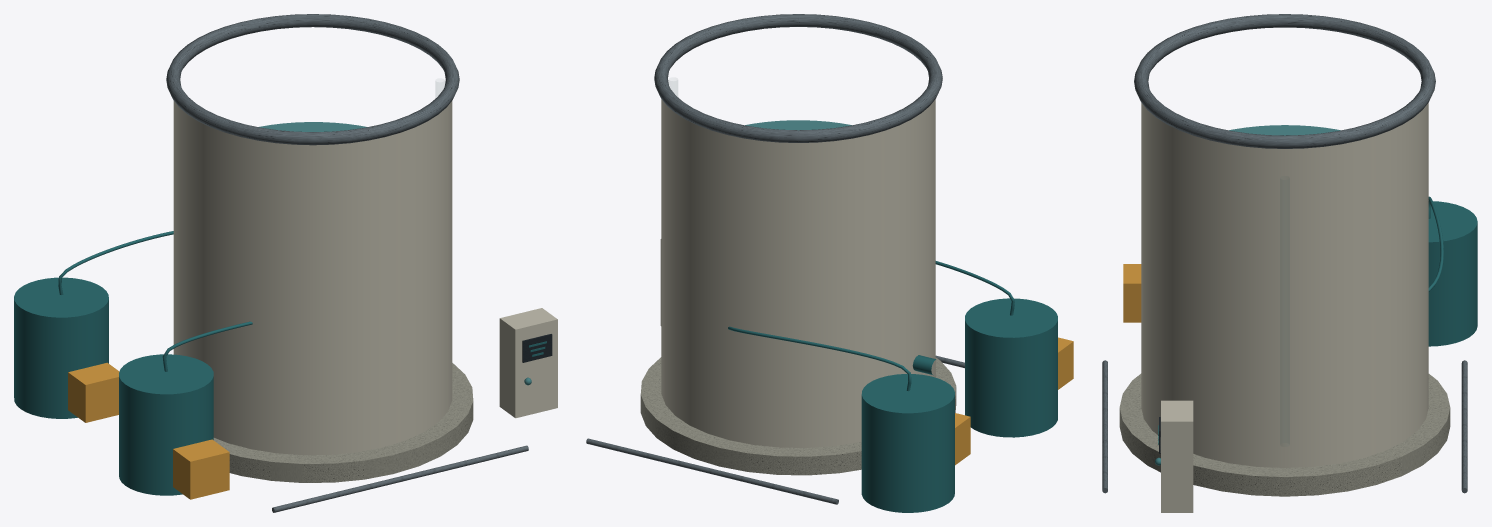
File: cooling-makeup.df5fe7648504.glb
3 views of the same model, side by side, from view 1: azimuth 30°, elevation 25°; view 2: azimuth 150°, elevation 25°; view 3: azimuth 270°, elevation 25° (orthographic). The views are drawn at different scales.
Visible parts, largest first — view 1: structure_cream_00044, structure_teal_00047, structure_steel_00045, structure_concrete_00043, structure_yellow_00048, tank_level_00004, structure_dark_00050; view 2: structure_cream_00044, structure_teal_00047, structure_steel_00045, structure_concrete_00043, structure_yellow_00048, tank_level_00004; view 3: structure_cream_00044, structure_steel_00045, structure_concrete_00043, structure_teal_00047, structure_section_window_00046, structure_yellow_00048, tank_level_00004.
Boxes of the visible parts, x1,y1,x2,y2 form: structure_cream_00044: (173, 101, 557, 455); structure_teal_00047: (14, 231, 546, 495); structure_steel_00045: (166, 14, 528, 512); structure_concrete_00043: (213, 363, 473, 482); structure_yellow_00048: (68, 362, 229, 499); tank_level_00004: (258, 122, 367, 131); structure_dark_00050: (522, 334, 552, 362); structure_cream_00044: (660, 99, 935, 447); structure_teal_00047: (728, 261, 1057, 512); structure_steel_00045: (586, 14, 964, 504); structure_concrete_00043: (640, 357, 956, 475); structure_yellow_00048: (955, 337, 1073, 465); tank_level_00004: (745, 120, 851, 130); structure_cream_00044: (1141, 103, 1428, 512); structure_steel_00045: (1102, 14, 1467, 493); structure_concrete_00043: (1119, 373, 1450, 496); structure_teal_00047: (1158, 196, 1477, 444); structure_section_window_00046: (1280, 179, 1289, 443); structure_yellow_00048: (1123, 264, 1141, 322); tank_level_00004: (1229, 125, 1340, 135).
Size of the model in its own units: 6.73 by 5.44 by 5.22.
Materials: 9 (3 with a texture image).
